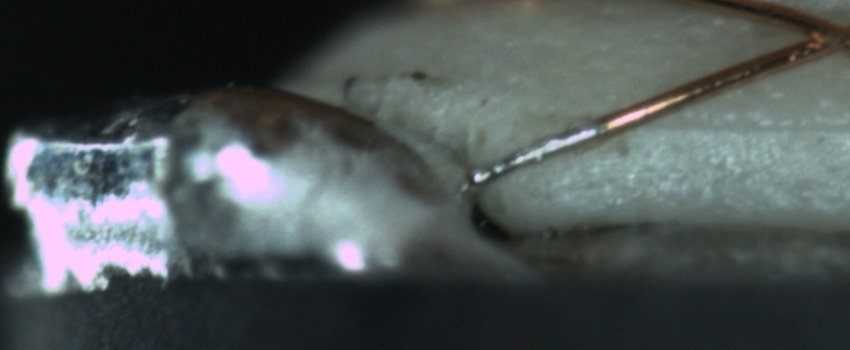CL: (779, 6, 848, 62)
DL: (629, 96, 850, 156)
TS: (469, 119, 598, 186)
